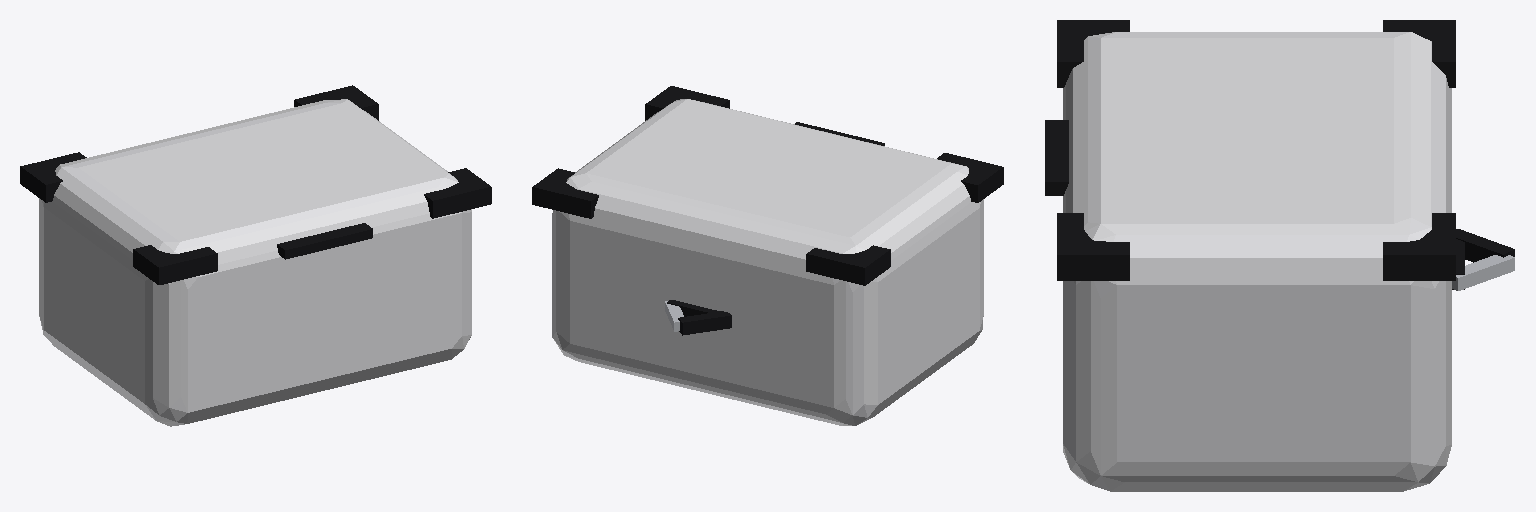
URDF robot description (airpods_lidar):
<?xml version='1.0' encoding='utf-8'?>
<!-- Video2URDF model "airpods_lidar", measured from a video (https://github.com/SungHyunC/video2urdf).
     Mesh and texture paths are relative to this file (meshes/...): this file alone won't load;
     unzip model.zip (the viewer's "Download model + meshes") and load it from there.
     Units: metres, kilograms, radians. Fix the root link "base", its origin 0.01851 m above the floor.
     Collisions are the measured geometry; visuals may be the design, video texture or SAM 3D mesh.
     PyBullet: loadURDF(path, useFixedBase=True, flags=URDF_USE_INERTIA_FROM_FILE).
     The <mujoco> element only keeps mesh paths for MuJoCo's URDF import; other parsers ignore it.
     ROS: mesh paths must become package://<your_package>/meshes/... for RViz and Gazebo. -->
<robot name="airpods_lidar">
  <mujoco>
    <compiler strippath="false" />
  </mujoco>
  <link name="base">
    <visual name="design_base_0">
      <origin xyz="0.00000 0.00000 0.00000" rpy="0.00000 0.00000 0.00000" />
      <geometry>
        <mesh filename="meshes/design_base_0.obj" />
      </geometry>
      <material name="design_base_0_color">
        <color rgba="0.88000 0.88000 0.89000 1" />
      </material>
    </visual>
    <visual name="design_base_1">
      <origin xyz="0.02800 0.02000 0.01500" rpy="0.00000 0.00000 0.00000" />
      <geometry>
        <box size="0.01200 0.00900 0.00350" />
      </geometry>
      <material name="design_base_1_color">
        <color rgba="0.12000 0.12000 0.13000 1" />
      </material>
    </visual>
    <visual name="design_base_2">
      <origin xyz="-0.02800 0.02000 0.01500" rpy="0.00000 0.00000 0.00000" />
      <geometry>
        <box size="0.01200 0.00900 0.00350" />
      </geometry>
      <material name="design_base_2_color">
        <color rgba="0.12000 0.12000 0.13000 1" />
      </material>
    </visual>
    <visual name="design_base_3">
      <origin xyz="0.02800 -0.02000 0.01500" rpy="0.00000 0.00000 0.00000" />
      <geometry>
        <box size="0.01200 0.00900 0.00350" />
      </geometry>
      <material name="design_base_3_color">
        <color rgba="0.12000 0.12000 0.13000 1" />
      </material>
    </visual>
    <visual name="design_base_4">
      <origin xyz="-0.02800 -0.02000 0.01500" rpy="0.00000 0.00000 0.00000" />
      <geometry>
        <box size="0.01200 0.00900 0.00350" />
      </geometry>
      <material name="design_base_4_color">
        <color rgba="0.12000 0.12000 0.13000 1" />
      </material>
    </visual>
    <visual name="design_base_5">
      <origin xyz="0.00000 -0.02300 0.01400" rpy="0.00000 0.00000 0.00000" />
      <geometry>
        <box size="0.01800 0.00600 0.00180" />
      </geometry>
      <material name="design_base_5_color">
        <color rgba="0.12000 0.12000 0.13000 1" />
      </material>
    </visual>
    <visual name="design_base_6">
      <origin xyz="0.00000 0.02400 0.00000" rpy="0.00000 0.00000 0.00000" />
      <geometry>
        <box size="0.01200 0.00300 0.00220" />
      </geometry>
      <material name="design_base_6_color">
        <color rgba="0.12000 0.12000 0.13000 1" />
      </material>
    </visual>
    <visual name="design_base_7">
      <origin xyz="-0.00300 0.02750 0.00000" rpy="1.57080 0.00000 0.86217" />
      <geometry>
        <box size="0.00922 0.00250 0.00220" />
      </geometry>
      <material name="design_base_7_color">
        <color rgba="0.12000 0.12000 0.13000 1" />
      </material>
    </visual>
    <visual name="design_base_8">
      <origin xyz="0.00300 0.02750 0.00000" rpy="1.57080 0.00000 -0.86217" />
      <geometry>
        <box size="0.00922 0.00180 0.00220" />
      </geometry>
      <material name="design_base_8_color">
        <color rgba="0.75000 0.76000 0.78000 1" />
      </material>
    </visual>
    <inertial>
      <origin xyz="-5.95975e-05 -0.000180475 -0.000968329" rpy="0.205314 -1.56716 2.94268" />
      <mass value="0.06" />
      <inertia ixx="3.22802e-05" ixy="0" ixz="0" iyy="2.58642e-05" iyz="0" izz="1.80329e-05" />
    </inertial>
    <collision>
      <geometry>
        <mesh filename="meshes/static_object.obj" />
      </geometry>
    </collision>
  </link>
</robot>

--- Render facts (derived) ---
Views: 3 orthographic renders of the robot side by side, from view 1: azimuth 30°, elevation 25°; view 2: azimuth 150°, elevation 25°; view 3: azimuth 270°, elevation 25°.
Model airpods_lidar with 1 links and 0 joints (none), rooted at base, posed every joint at zero.
Visible links, largest first — view 1: base; view 2: base; view 3: base.
Boxes of the visible links, x1,y1,x2,y2 form: base: (20,85,491,426); base: (532,86,1003,425); base: (1045,20,1514,491).
Size in the robot's own frame: 0.068 by 0.0577 by 0.0358 metres.
1 mesh visuals loaded from 1 distinct referenced files (1 OBJ).
